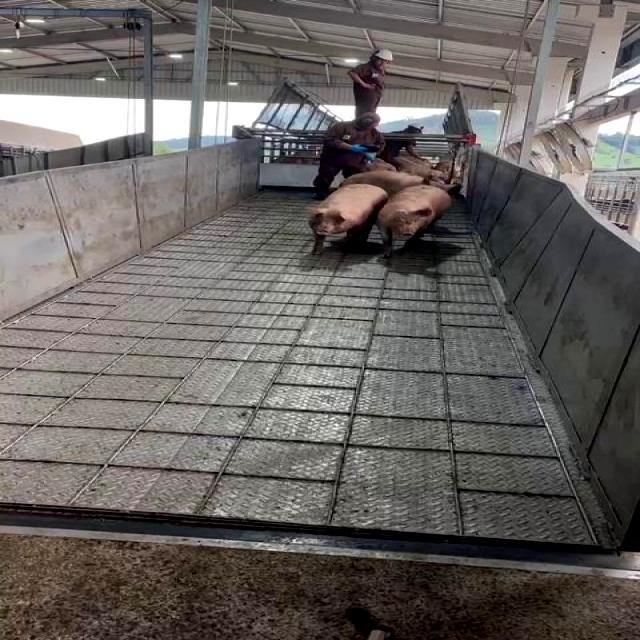pig: (310, 184, 387, 252), (378, 186, 450, 254), (343, 170, 424, 194)
